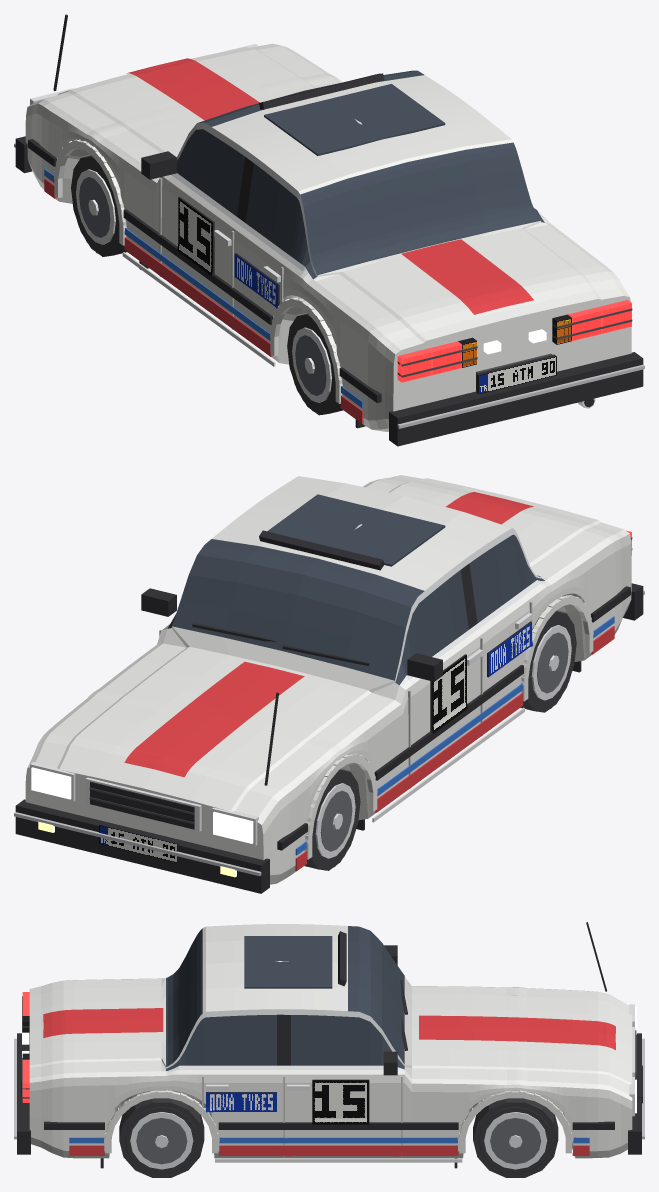
File: atmaca.glb
3 renders of one model, top to bottom at view 1: azimuth 30°, elevation 25°; view 2: azimuth 150°, elevation 25°; view 3: azimuth 270°, elevation 25°, orthographic. The views are drawn at different scales.
Visible parts, largest first — view 1: body.010, livery.010, wheel_RL.010, wheel_FL.010; view 2: body.010, livery.010, wheel_RL.010, wheel_FL.010; view 3: body.010, livery.010, wheel_RR.010, wheel_FR.010.
Part boxes in pixels (<box>): body.010: <box>14,14,644,446</box>; livery.010: <box>44,58,533,423</box>; wheel_RL.010: <box>287,313,342,415</box>; wheel_FL.010: <box>71,155,126,256</box>; body.010: <box>14,475,644,893</box>; livery.010: <box>124,492,614,871</box>; wheel_RL.010: <box>520,609,576,712</box>; wheel_FL.010: <box>304,769,360,870</box>; body.010: <box>14,922,644,1168</box>; livery.010: <box>43,1008,615,1156</box>; wheel_RR.010: <box>119,1098,204,1177</box>; wheel_FR.010: <box>473,1098,558,1177</box>.
Bounding box in the file's own units: 1.95 × 1.36 × 4.44.
Materials: 18 (7 with a texture image).
